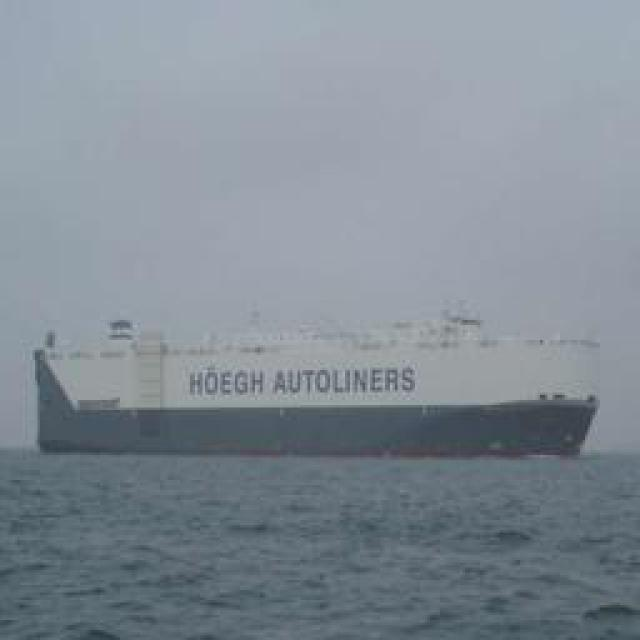Ship: (15, 300, 610, 462)
